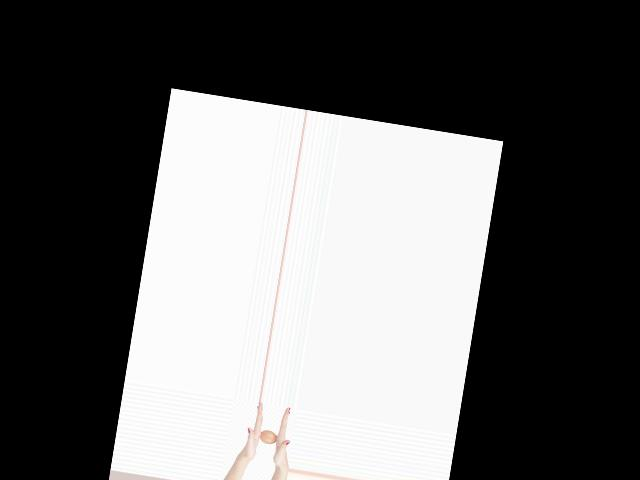egg: (258, 429, 277, 445)
